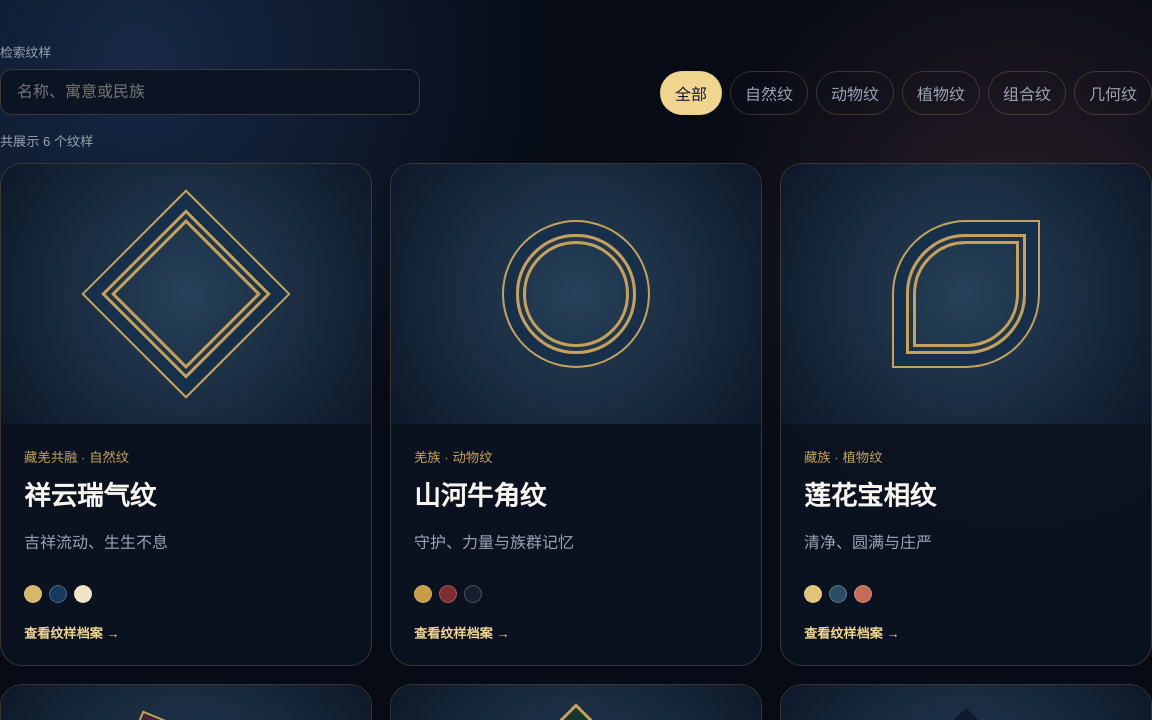
Test: PatternBrowser › shows an empty state
Type "不存在的纹样" into the field with placeholder "名称、寓意或民族". click: x=210, y=92
box: [0,69,420,115]
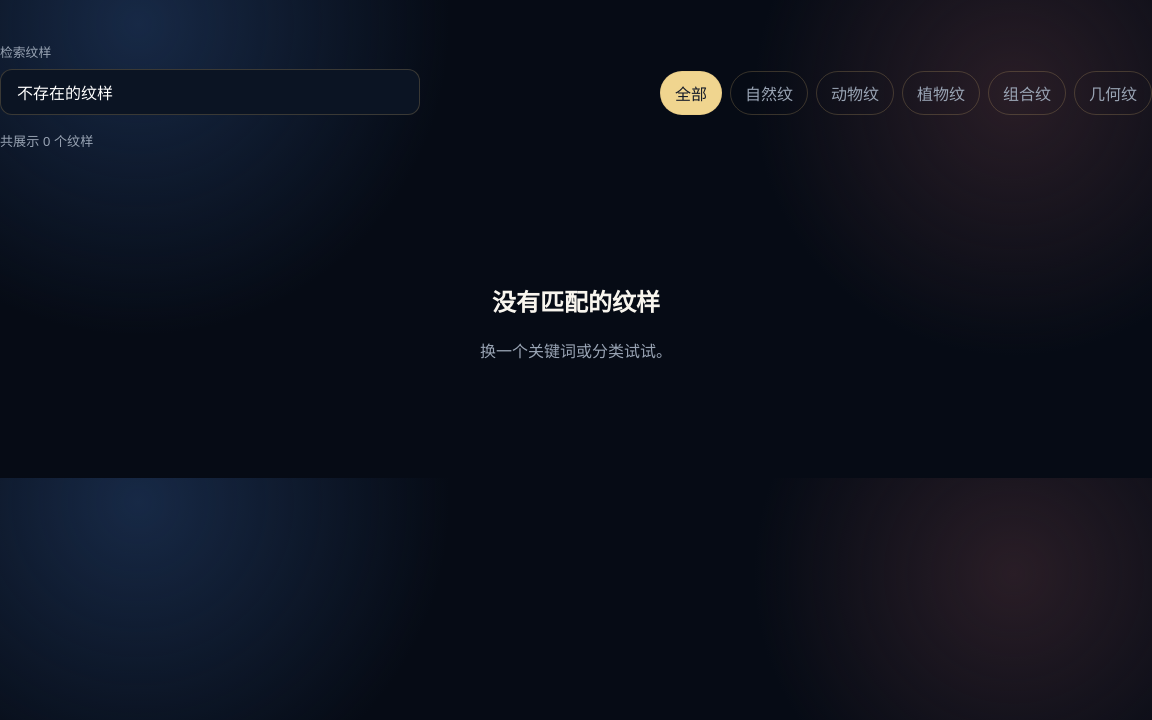
Expected: the heading "没有匹配的纹样" is shown, [492,289,660,316]
